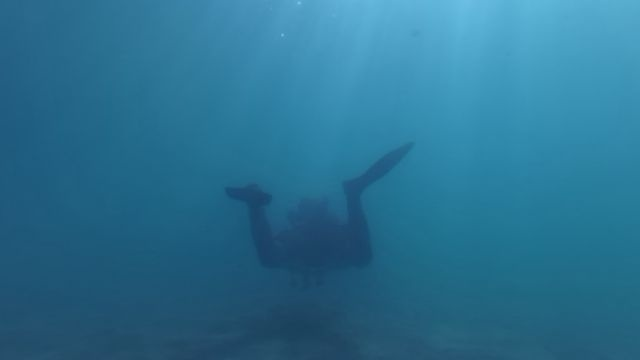Diver: (217, 130, 424, 300)
